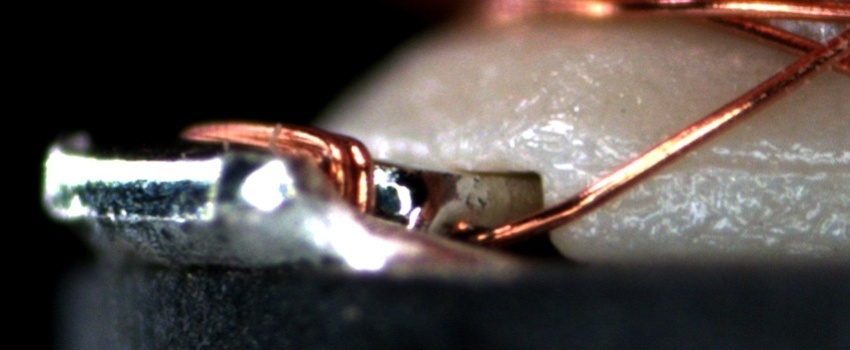CL: (786, 29, 844, 81)
DL: (670, 136, 849, 194)
TE: (182, 111, 375, 223)
